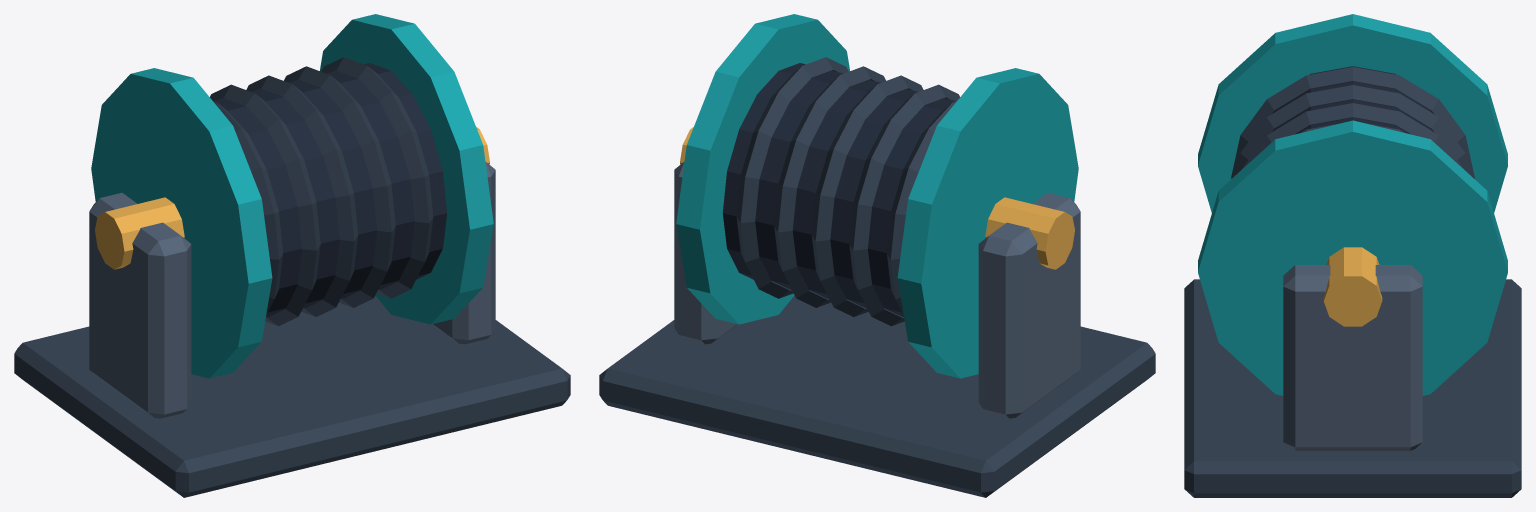
The model's file is 09_Cable_Spool.glb.
3 renders of one model, left to right at view 1: azimuth 30°, elevation 25°; view 2: azimuth 150°, elevation 25°; view 3: azimuth 270°, elevation 25°, orthographic.
Parts seen in each view (by area): view 1: 09_Cable_Spool__Body; view 2: 09_Cable_Spool__Body; view 3: 09_Cable_Spool__Body.
Part boxes in pixels (bbox=[...]): 09_Cable_Spool__Body: bbox=[14, 14, 570, 497]; 09_Cable_Spool__Body: bbox=[599, 14, 1155, 497]; 09_Cable_Spool__Body: bbox=[1184, 14, 1521, 497].
Size of the model in its own units: 2 by 1.64 by 1.5.
Materials: 1 (1 with a texture image).
